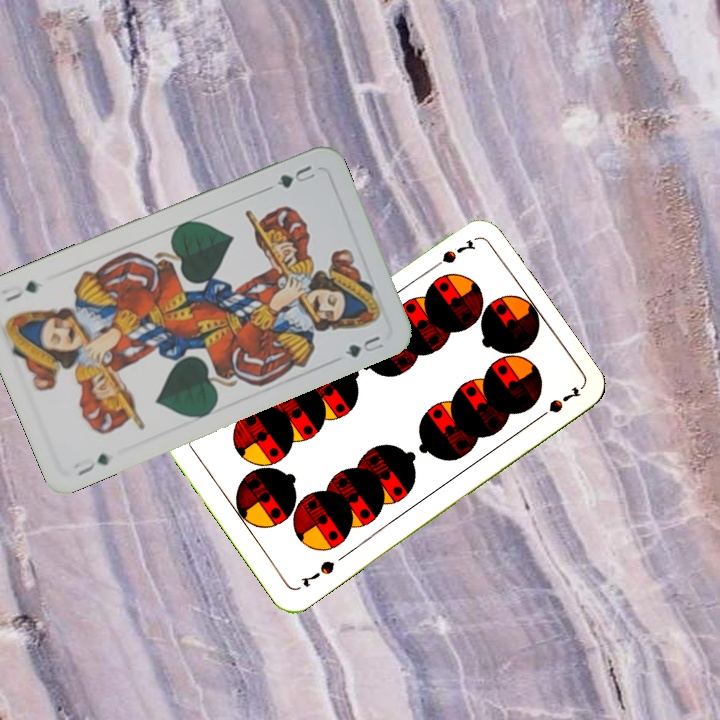GU: (272, 161, 319, 191), (68, 449, 112, 478)
S7: (425, 235, 479, 274), (297, 556, 337, 590)
